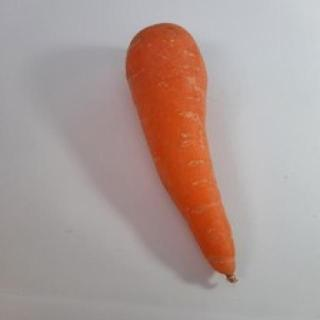carrot: (126, 22, 238, 284)
